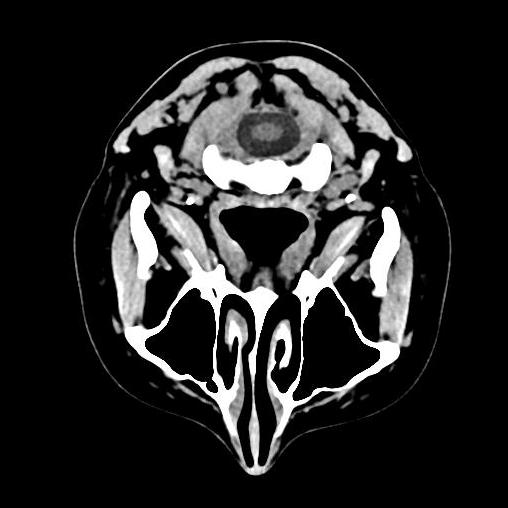Normal_Brain: (56, 27, 448, 486)
